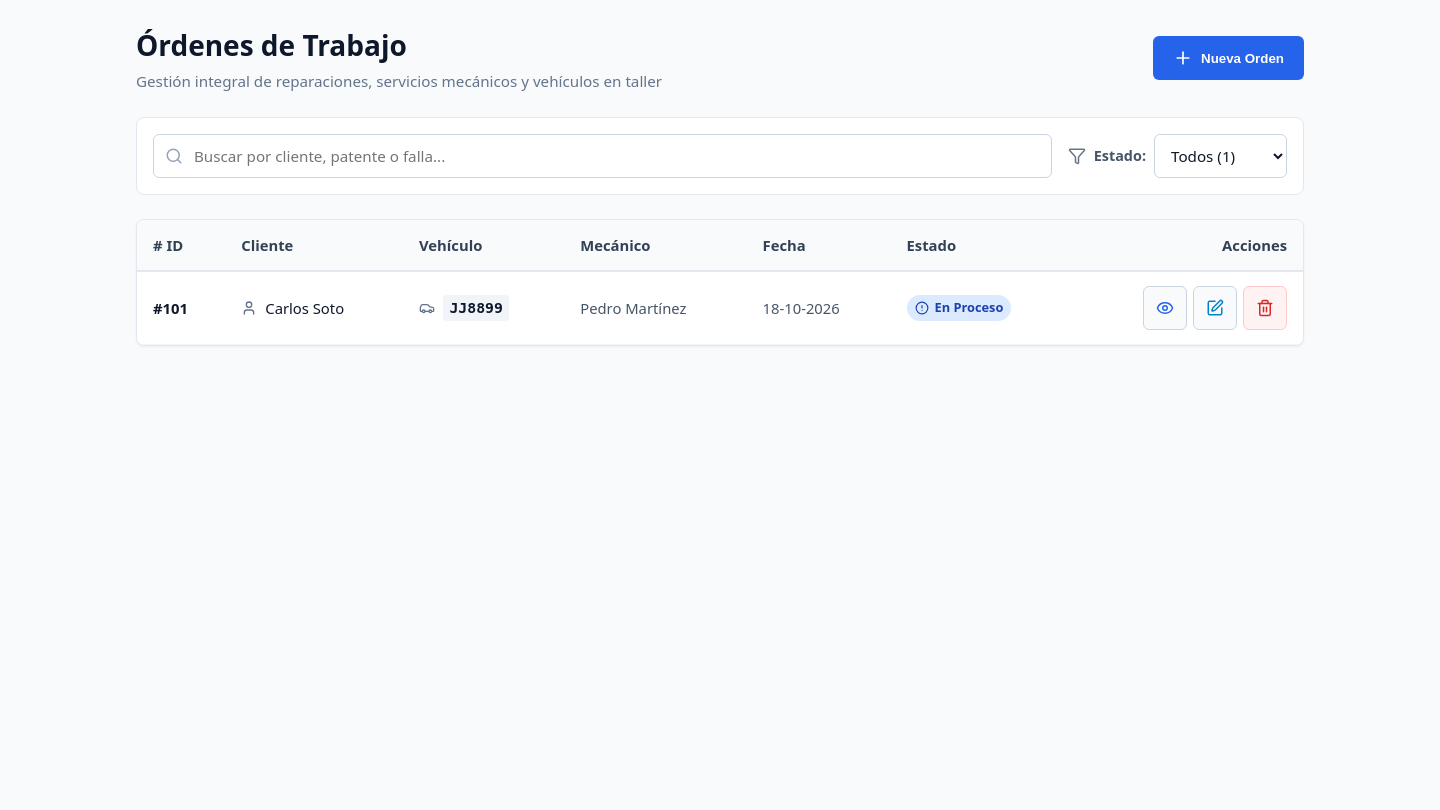
Test: OrdenesListPage CRUD and Role Authorization › debe abrir el modal de creación de orden al presionar "Nueva Orden"
Expected: the text "#101" is shown, 137,272 -> 225,344
Step 1. Click the button "Nueva Orden" → (1228, 58), box 1153,36 -> 1304,80
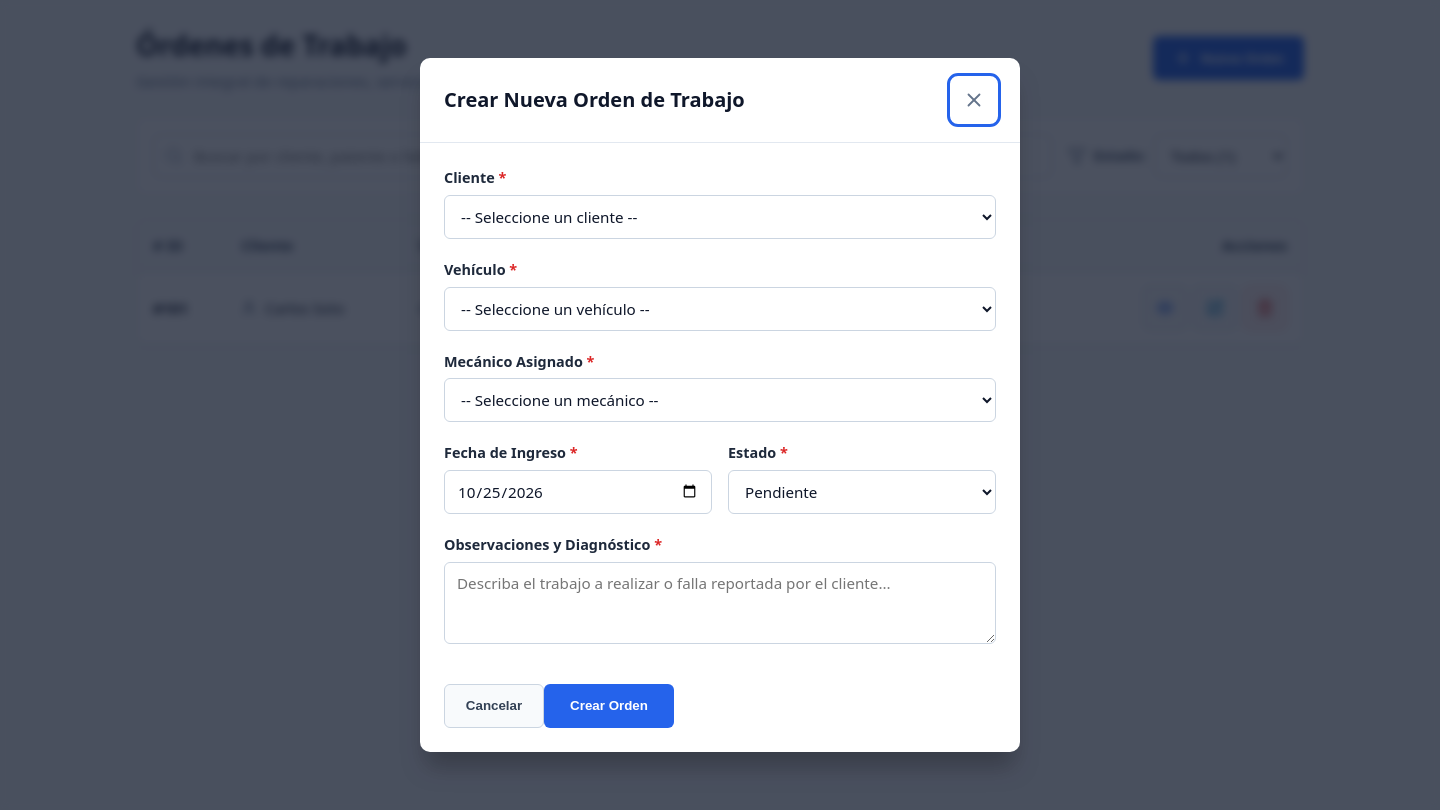
Result: the dialog is shown at 420,58 -> 1020,752
Result: the heading "Crear Nueva Orden de Trabajo" is shown at 444,86 -> 745,116
